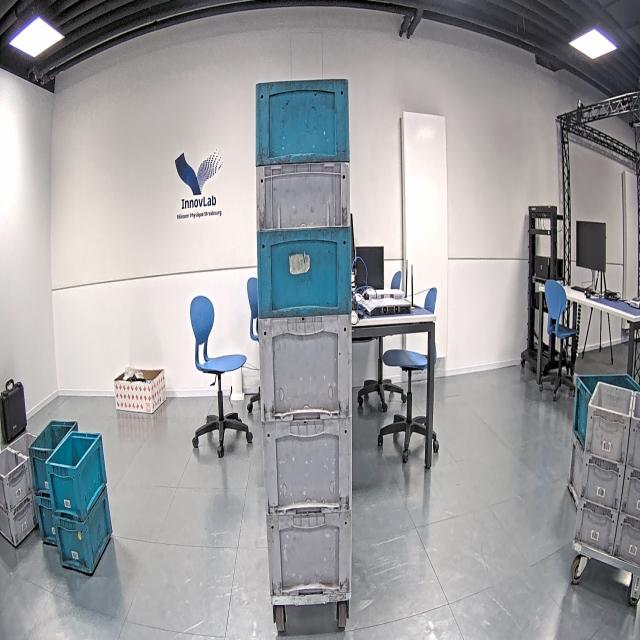Box3G: (254, 165, 351, 228)
Box4G: (258, 318, 351, 416), (260, 421, 353, 513), (266, 511, 353, 598), (567, 433, 584, 504)
Box8G: (255, 229, 352, 314), (584, 381, 634, 469), (580, 451, 624, 511), (574, 498, 619, 556), (0, 447, 31, 512), (0, 490, 36, 540), (618, 511, 640, 564), (626, 392, 640, 466), (621, 465, 640, 517), (12, 429, 36, 454)
BoxB4: (255, 80, 349, 164), (574, 373, 639, 445)
BoxB8: (52, 484, 112, 576), (45, 433, 107, 515), (29, 416, 78, 494), (34, 496, 61, 546)
